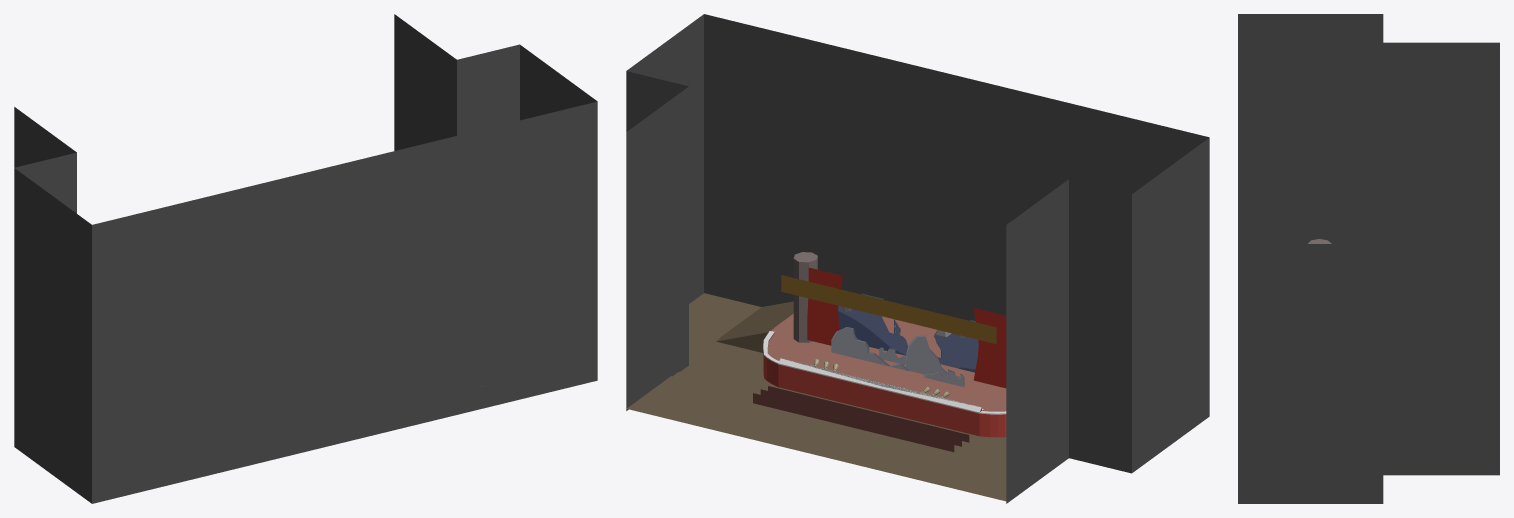
File: stage.fbx
3 renders of one model, left to right at view 1: azimuth 30°, elevation 25°; view 2: azimuth 150°, elevation 25°; view 3: azimuth 270°, elevation 25°, orthographic. The views are drawn at different scales.
Visible parts, largest first — view 1: Cube.001; view 2: Cube.001, Cube.014, Cube.013, Cube.006, Cube.004, Cube.002, Cube.015, Cube.003, Cube.010, Cube.012; view 3: Cube.001.
Part boxes in pixels (left/top/right/bottom): Cube.001: left=14, top=14, right=597, bottom=503; Cube.001: left=626, top=14, right=1209, bottom=503; Cube.014: left=781, top=275, right=996, bottom=343; Cube.013: left=807, top=267, right=1006, bottom=388; Cube.006: left=838, top=293, right=978, bottom=372; Cube.004: left=753, top=393, right=954, bottom=452; Cube.002: left=760, top=389, right=961, bottom=446; Cube.015: left=793, top=252, right=817, bottom=342; Cube.003: left=768, top=386, right=969, bottom=442; Cube.010: left=831, top=327, right=908, bottom=371; Cube.012: left=905, top=335, right=964, bottom=384; Cube.001: left=1238, top=14, right=1499, bottom=503.
Bounding box in the file's own units: 4649 × 2452 × 2238.
